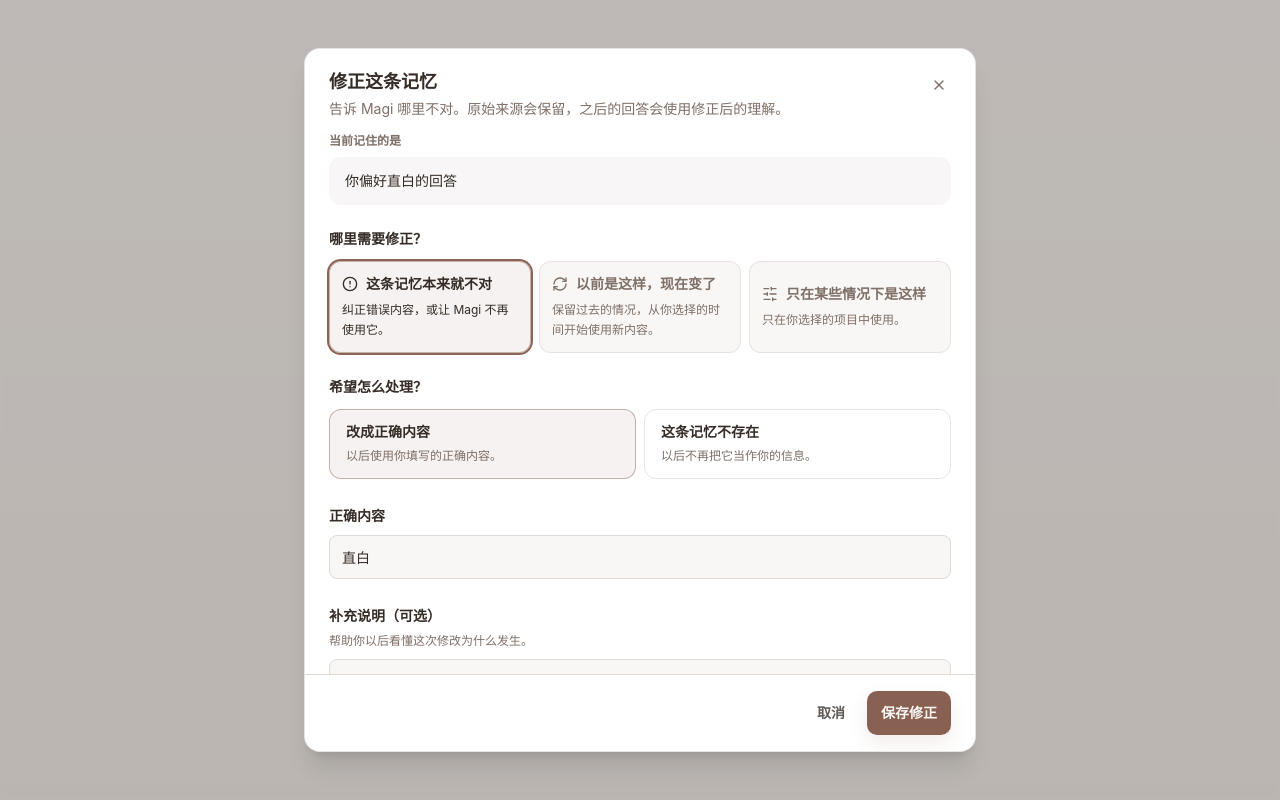
MemoryCorrectionDialog request safety › shows field-level validation and focuses the first invalid field
Expected: the field labelled "正确内容" holds "直白", [329,535,951,579]
Click the button "保存修正" at (909, 713), box [867,691,951,735]
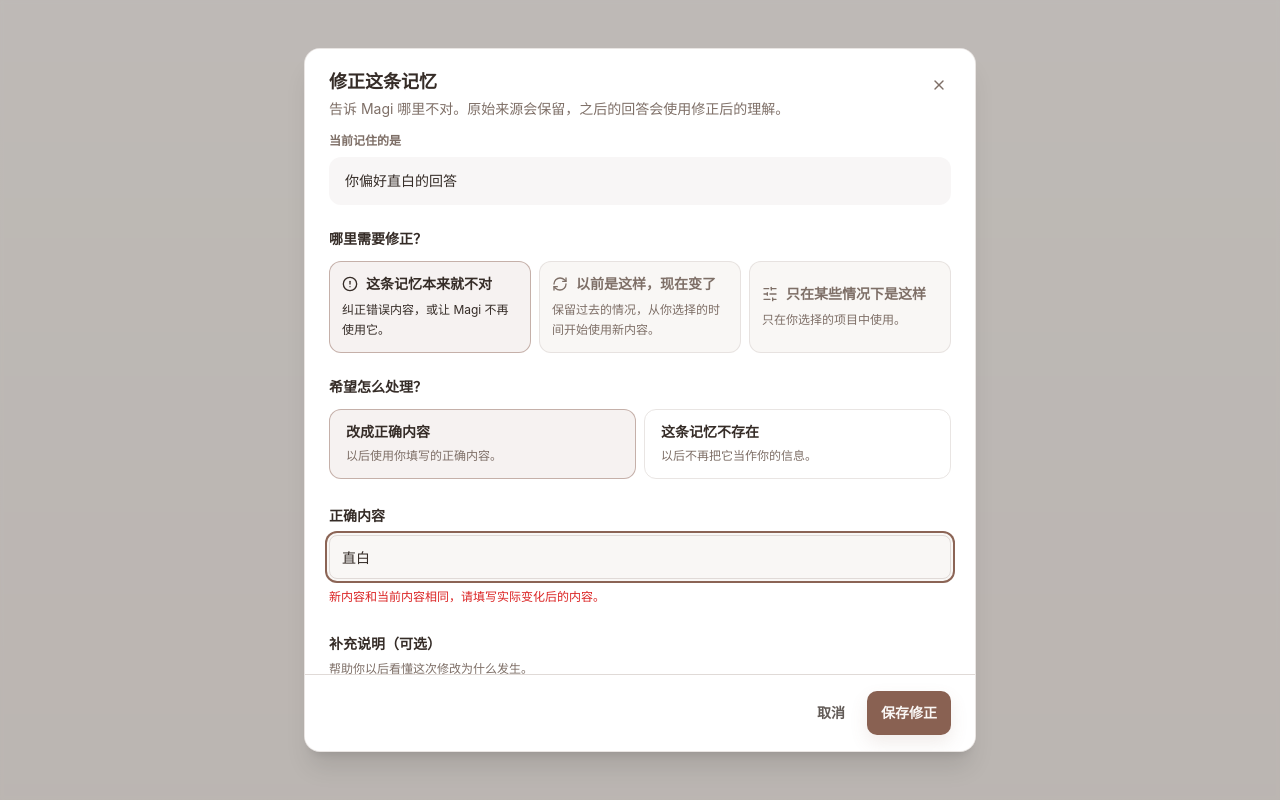
Expected: the text "新内容和当前内容相同，请填写实际变化后的内容。" is shown, [329,589,605,604]
Replace the text in the field labelled "正确内容" with "简洁" at (640, 557), box [329,535,951,579]
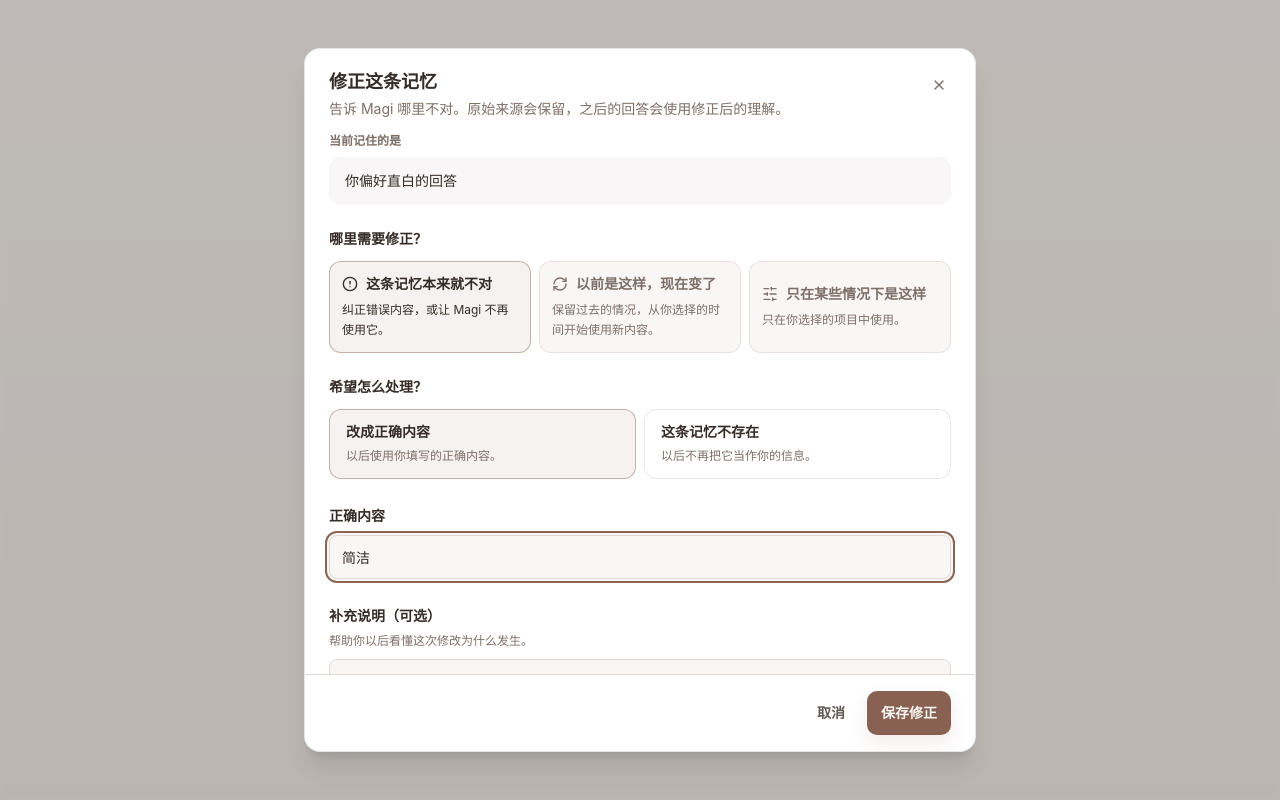
Click the button "以前是这样，现在变了 保留过去的情况，从你选择的时间开始使用新内容。" at (640, 307), box [539,261,741,353]
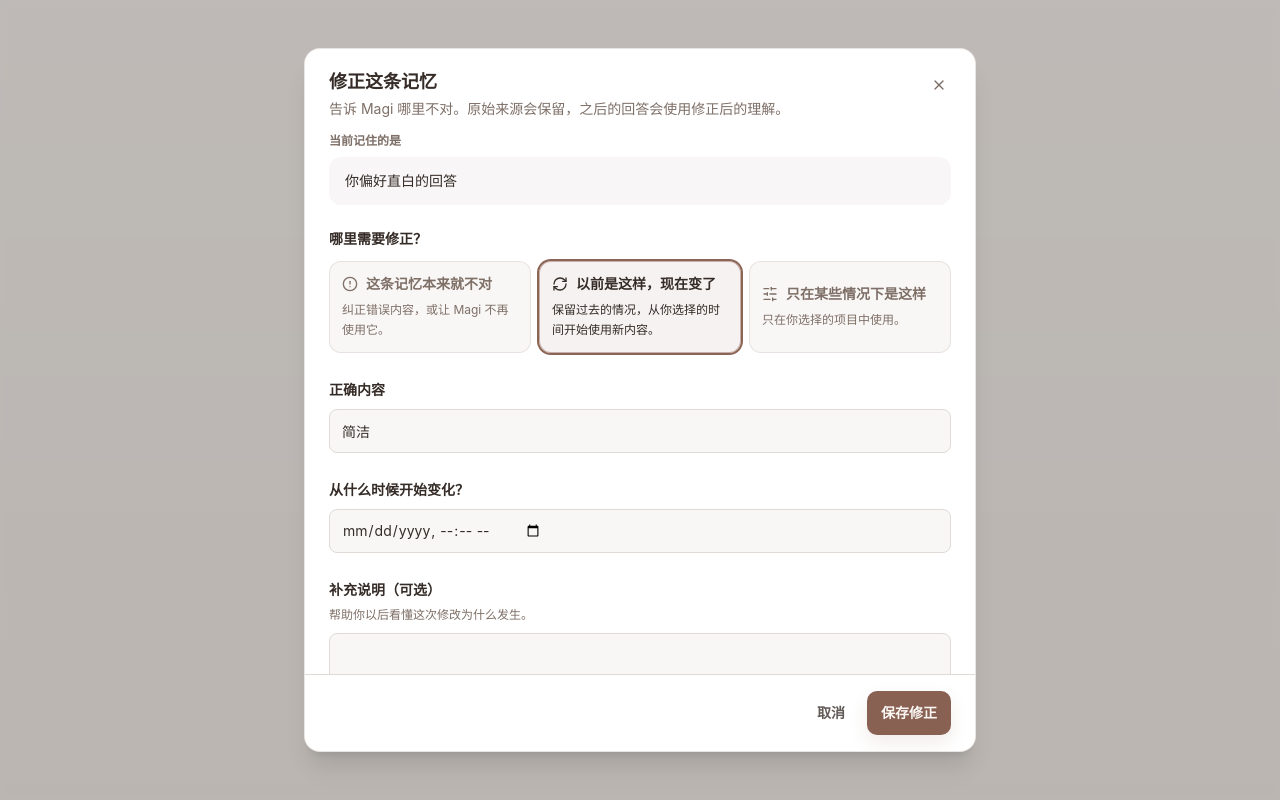
Click the button "保存修正" at (909, 713), box [867,691,951,735]
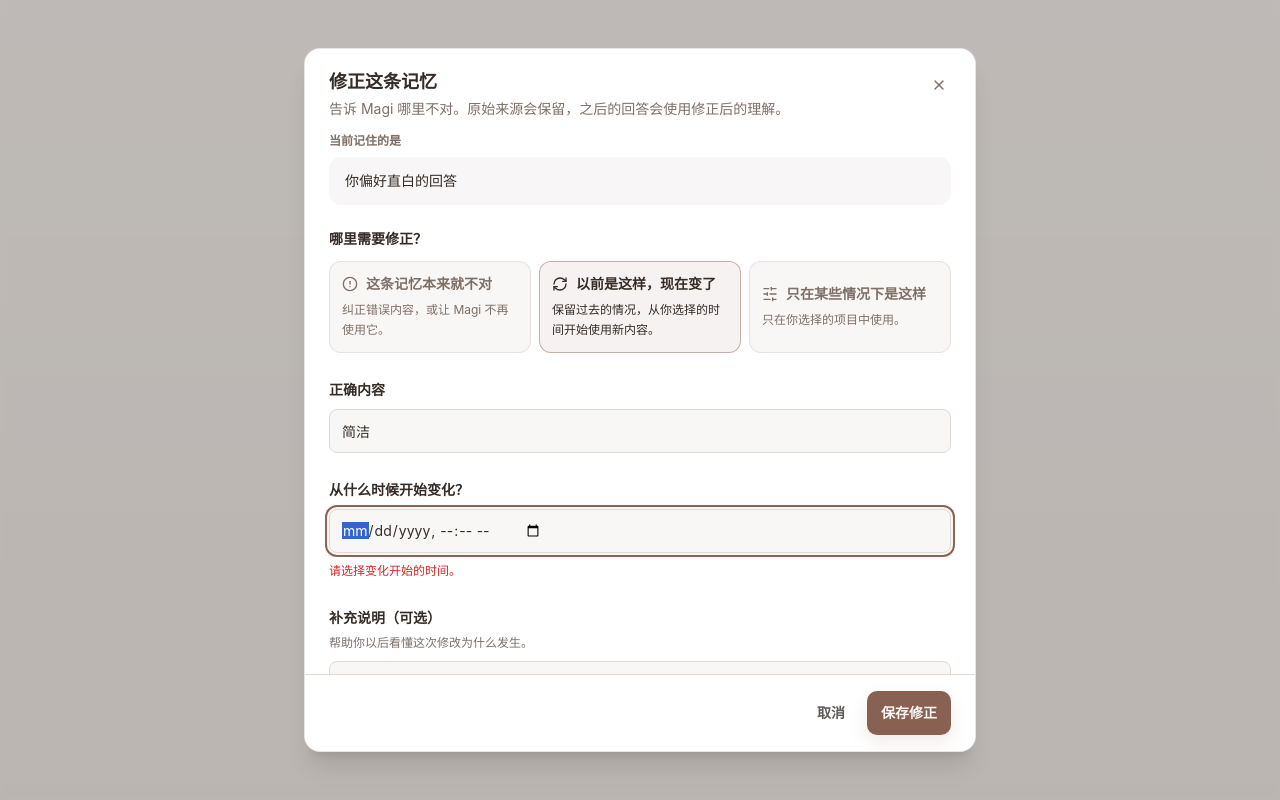
Expected: the text "请选择变化开始的时间。" is shown, [329,563,461,578]
